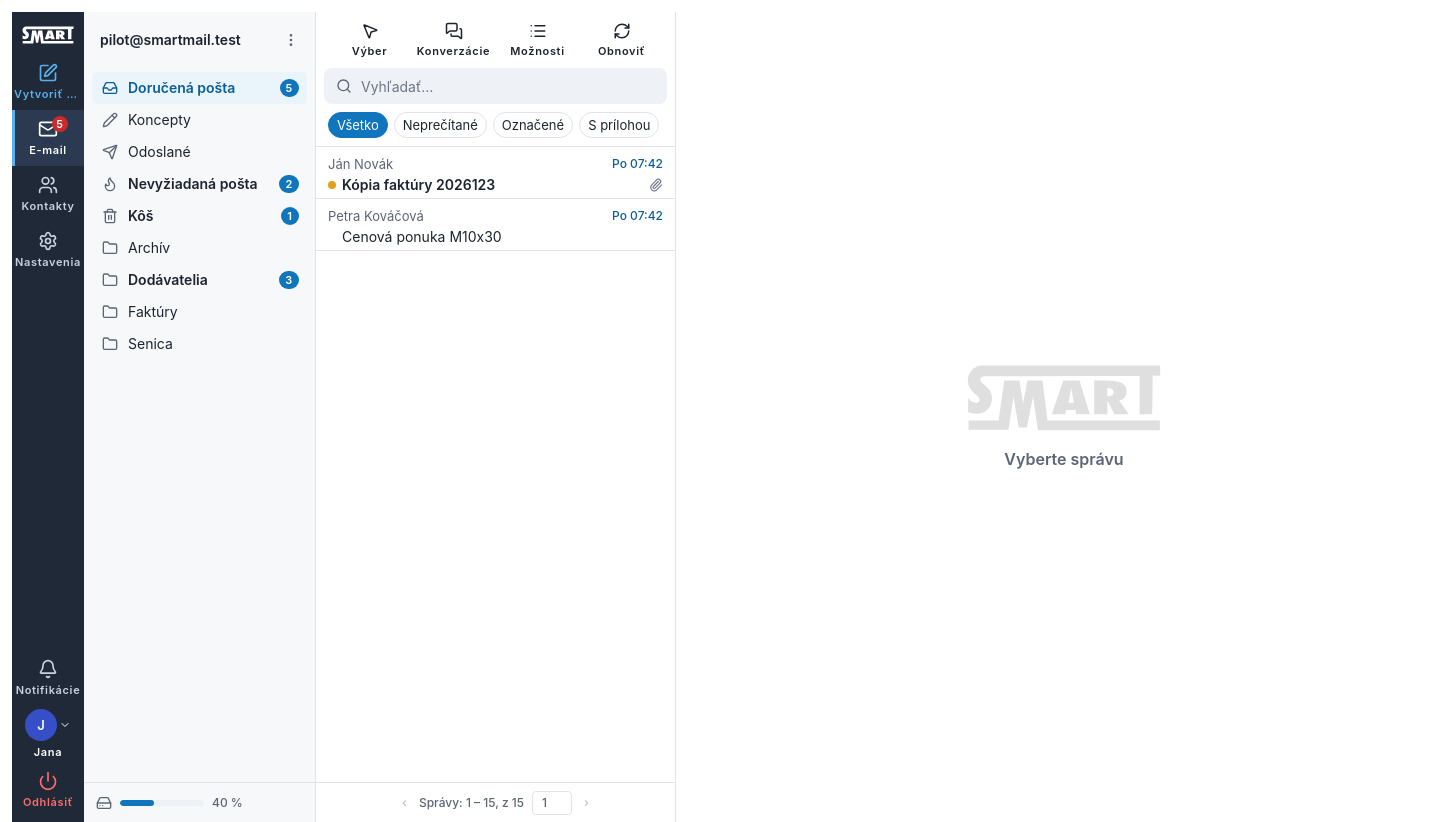
it: W2 shell and folder column (1c) › G3 context menu (right click): special folders cannot be renamed or deleted
This screenshot has width=1452, height=822.
Right-click the link with aria-label "Doručená pošta, neprečítané: 5" at (200, 88), box [92,72,307,104]
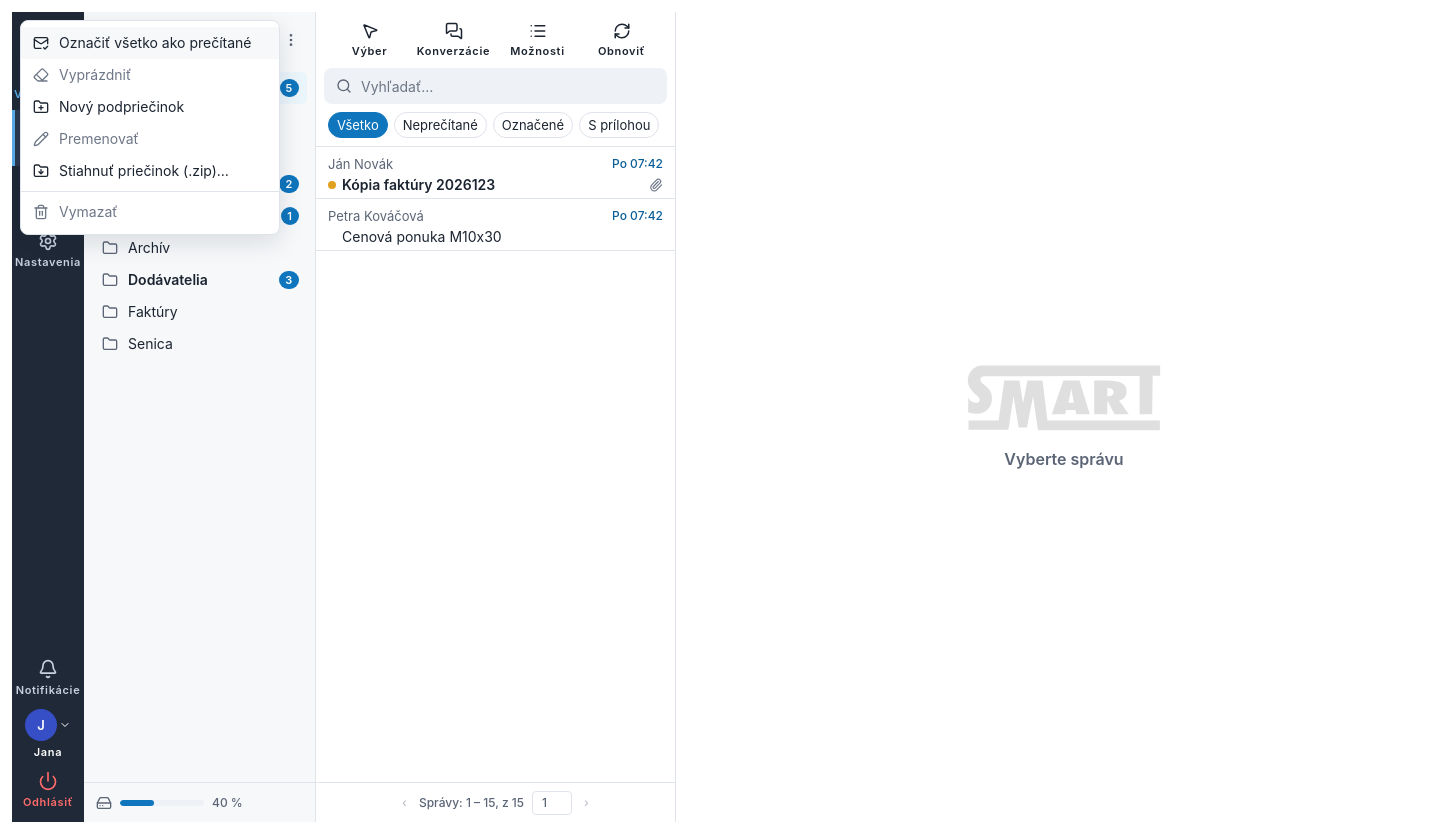
Press Escape in the menu named "Akcie priečinka Doručená pošta", box [20,20,280,235]
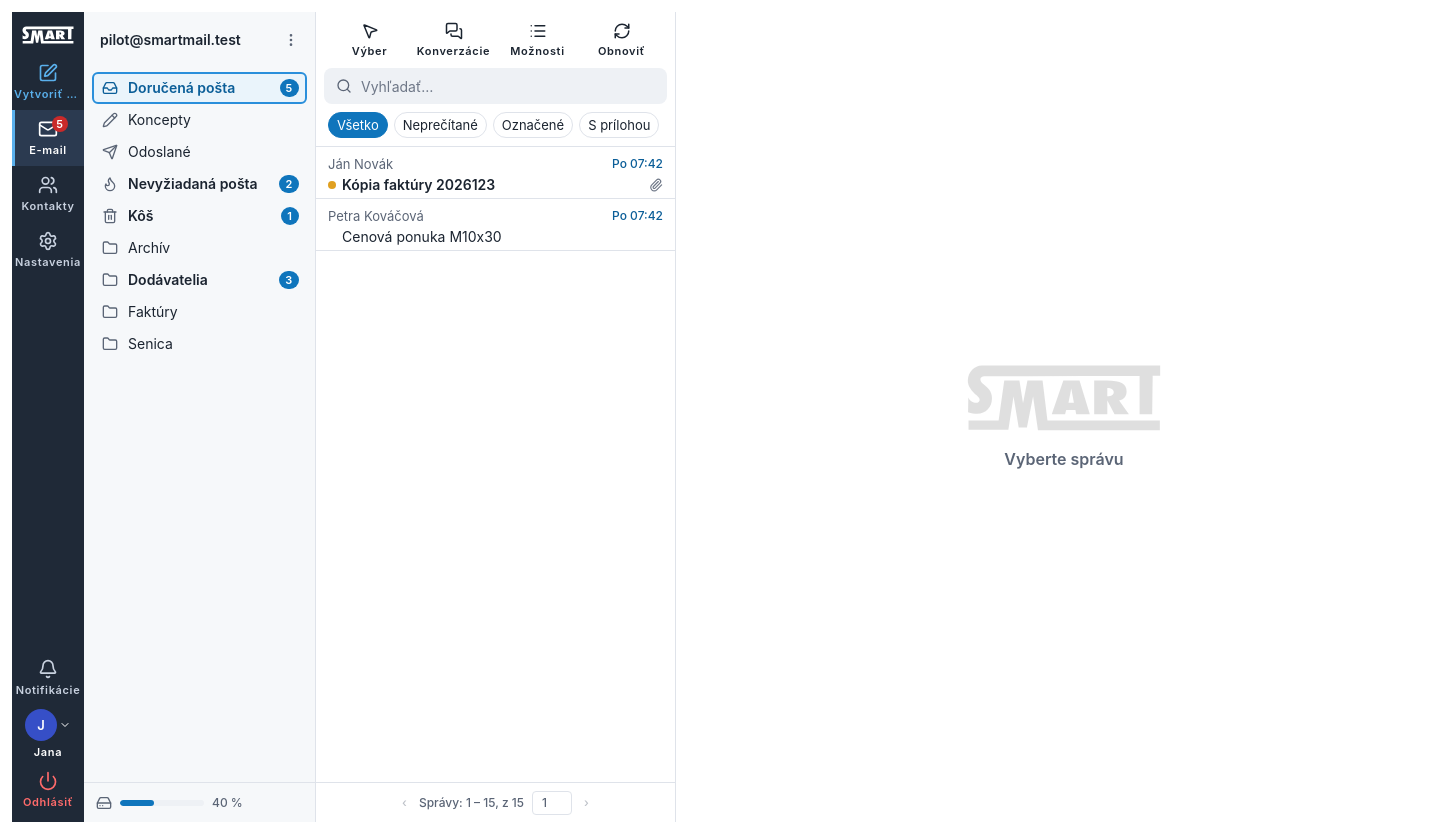
Result: the menu is gone
